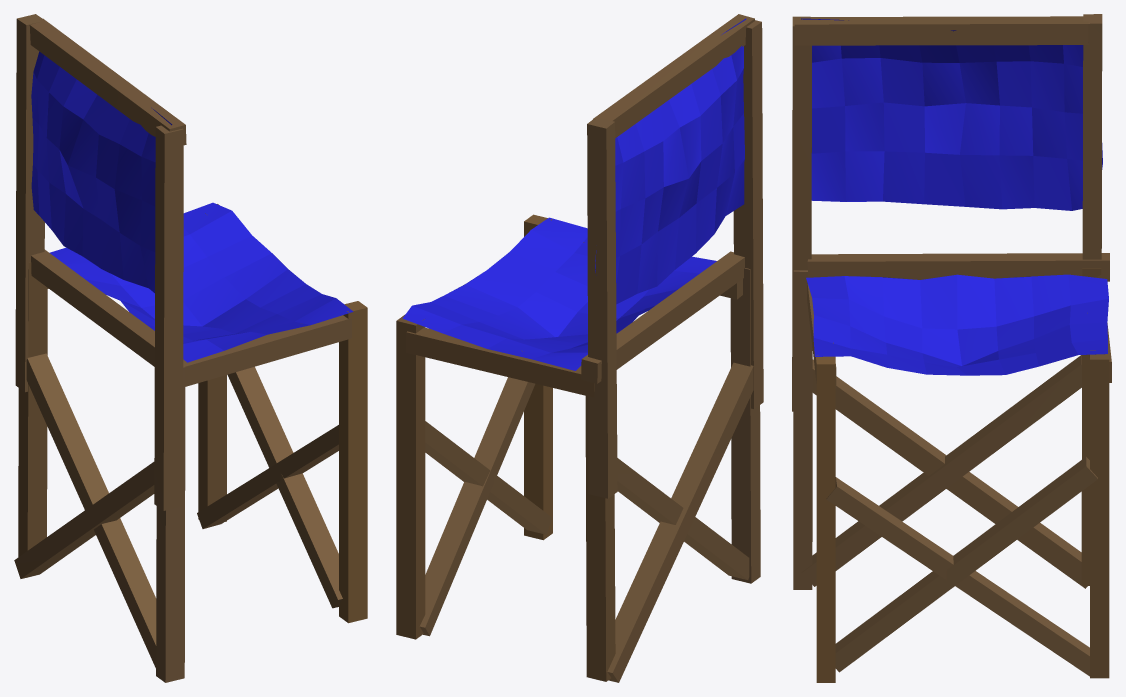
File: chair_camp_folding_saraskau.glb
The picture shows the model from 3 angles, left to right: view 1: azimuth 30°, elevation 25°; view 2: azimuth 150°, elevation 25°; view 3: azimuth 270°, elevation 25°; orthographic projection. The views are drawn at different scales.
Parts seen in each view (by area): view 1: cadeira; view 2: cadeira; view 3: cadeira.
Boxes of the visible parts, x1=… form: cadeira: x1=14, y1=14, x2=367, y2=682; cadeira: x1=396, y1=14, x2=763, y2=682; cadeira: x1=792, y1=14, x2=1111, y2=682.
Size of the model in its own units: 0.3663 by 0.85 by 0.4342.
1 material, 1 textured.
